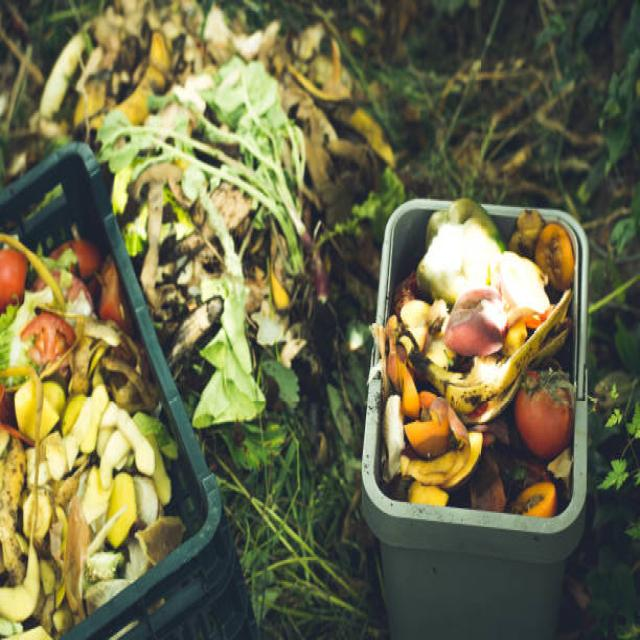trash: (54, 39, 576, 515)
